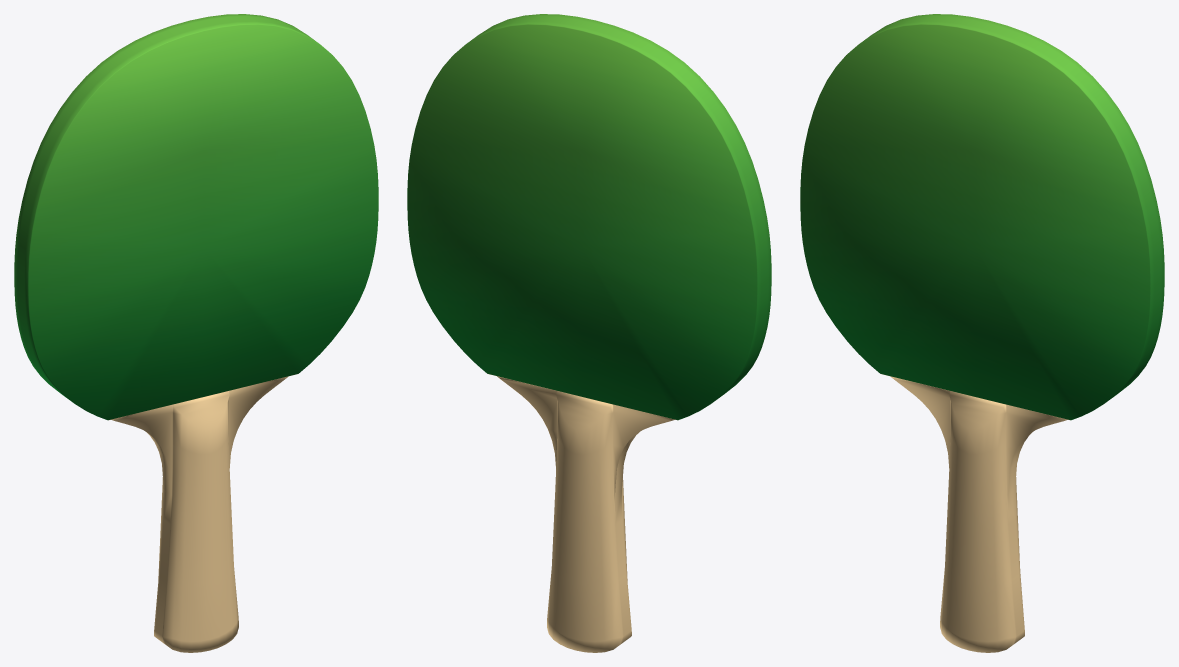
Rendered from _PingPongMasters_greenpaddle.fbx.
3 renders of one model, left to right at view 1: azimuth 30°, elevation 25°; view 2: azimuth 150°, elevation 25°; view 3: azimuth 330°, elevation 25°, orthographic.
Visible parts, largest first — view 1: greenpaddle; view 2: greenpaddle; view 3: greenpaddle.
Boxes of the visible parts, x1,y1,x2,y2 form: greenpaddle: [14, 14, 378, 652]; greenpaddle: [407, 14, 771, 652]; greenpaddle: [800, 14, 1164, 652].
Size of the model in its own units: 0.0741 by 0.0101 by 0.1242.
Materials: 2 (1 with a texture image).
